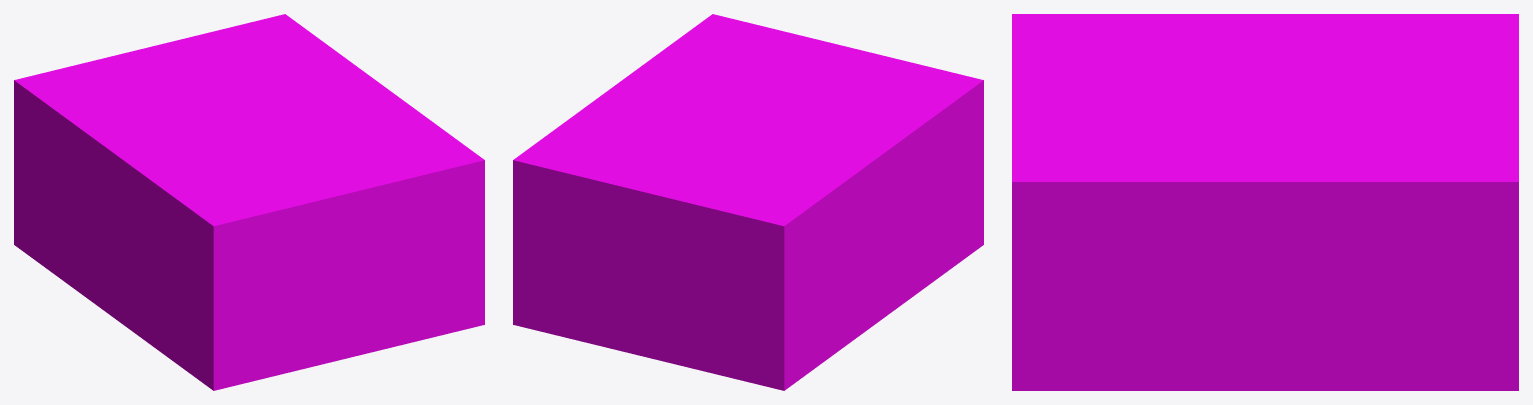
The model's file is hall_collision.glb.
3 renders of one model, left to right at view 1: azimuth 30°, elevation 25°; view 2: azimuth 150°, elevation 25°; view 3: azimuth 270°, elevation 25°, orthographic. The views are drawn at different scales.
Parts seen in each view (by area): view 1: Collision; view 2: Collision; view 3: Collision.
Boxes of the visible parts, x1=… form: Collision: x1=14, y1=14, x2=484, y2=390; Collision: x1=513, y1=14, x2=983, y2=390; Collision: x1=1012, y1=14, x2=1518, y2=390.
Bounding box in the file's own units: 20 × 11.6 × 25.5.
